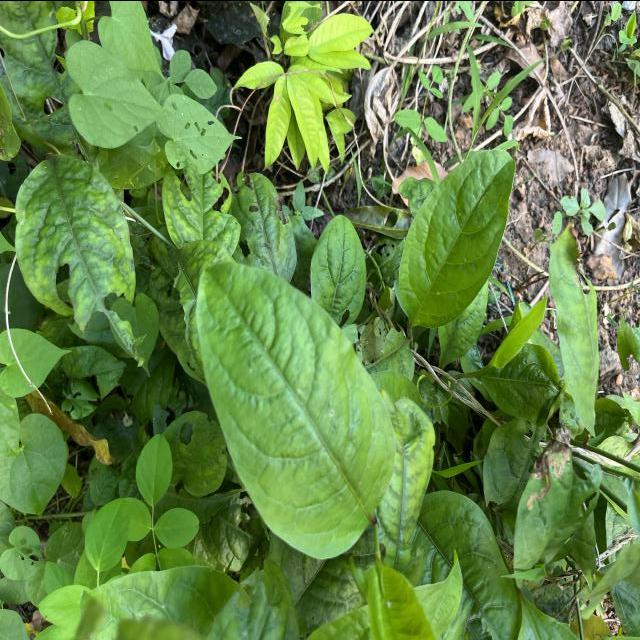Plumbago indica: (192, 256, 399, 561), (392, 132, 518, 336), (10, 142, 137, 339)
